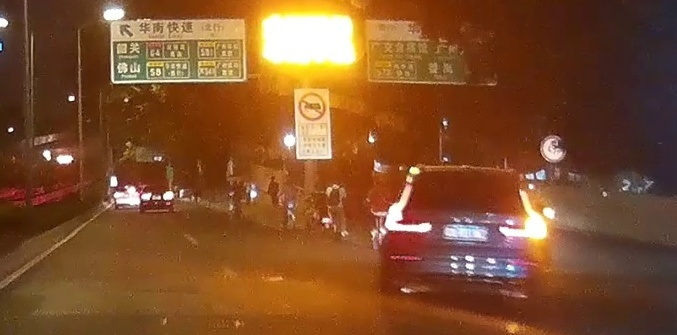L_light: (384, 184, 433, 232)
R_light: (499, 189, 547, 239)
T_light: (459, 171, 482, 177)
night-right: (376, 164, 550, 306)
